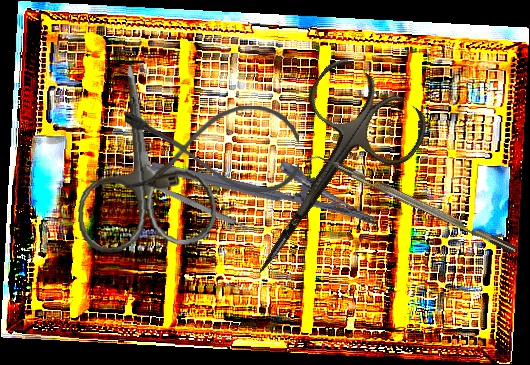Cannula: (125, 106, 299, 192)
Chopper: (304, 147, 517, 264)
Iris Scissors: (207, 52, 437, 306), (61, 57, 221, 256)
Needle Holder: (150, 129, 385, 228)
Scalpel Handle: (141, 177, 251, 234)
